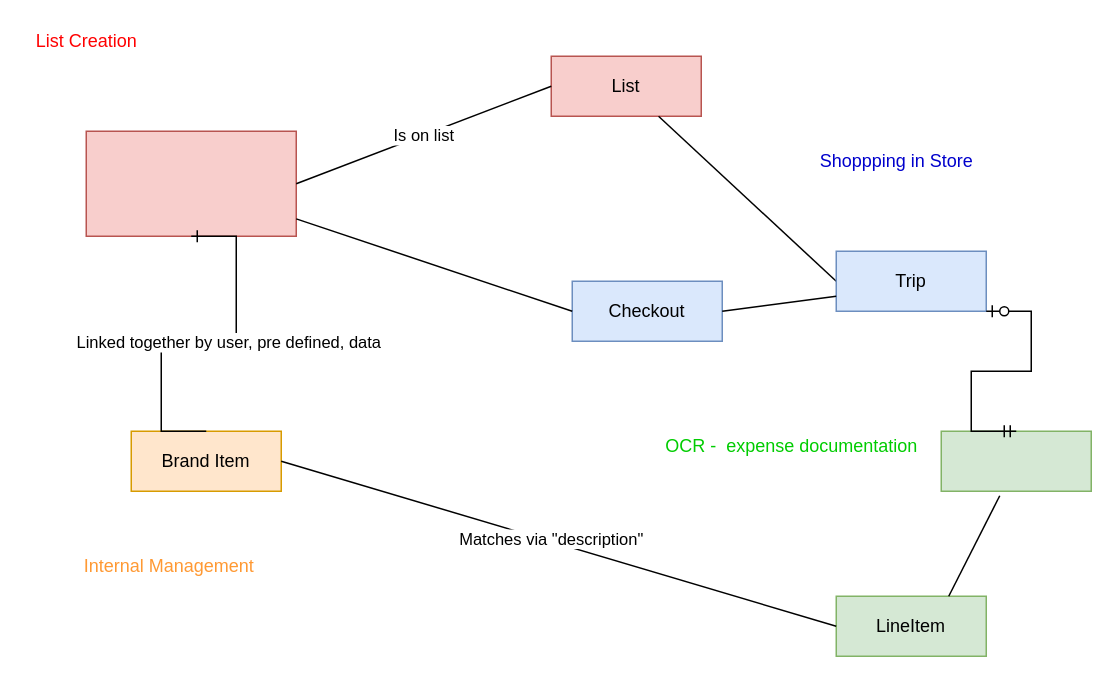
The diagram is 1118 pixels wide and 683 high, and some of its shapes have lost their labels. Each missing label, with the centre of its shape:
Item buy:bool: the point at 190,183
Receipt: the point at 1015,460
